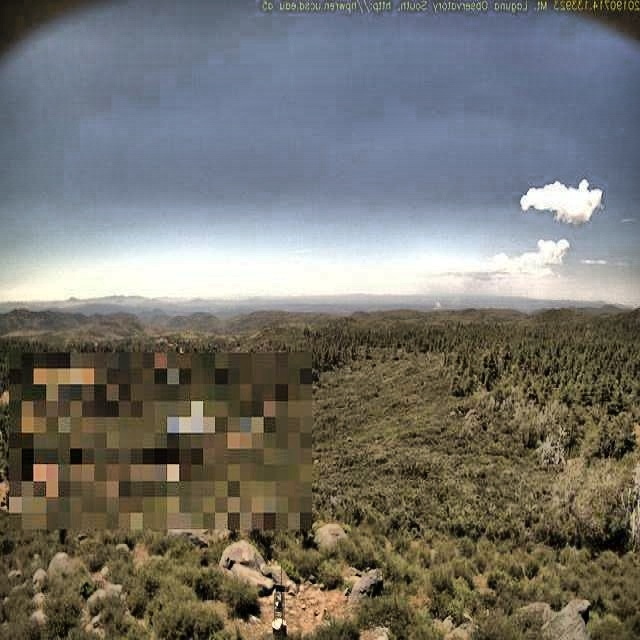smoke: (429, 290, 449, 310)
